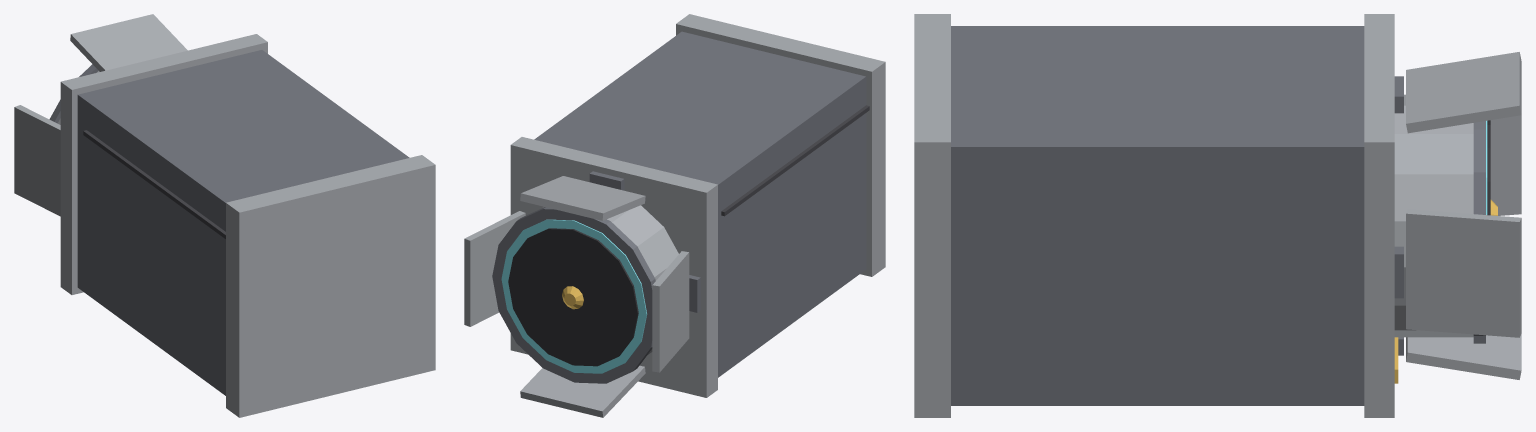
The model's file is bay_doors.glb.
The picture shows the model from 3 angles, left to right: view 1: azimuth 30°, elevation 25°; view 2: azimuth 150°, elevation 25°; view 3: azimuth 270°, elevation 25°; orthographic projection. The views are drawn at different scales.
Size of the model in its own units: 1 by 1 by 2.
